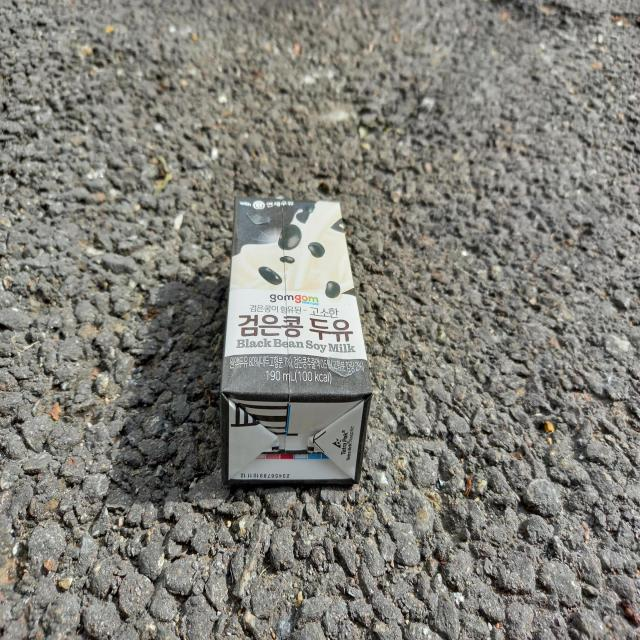paperpack: (220, 197, 372, 484)
